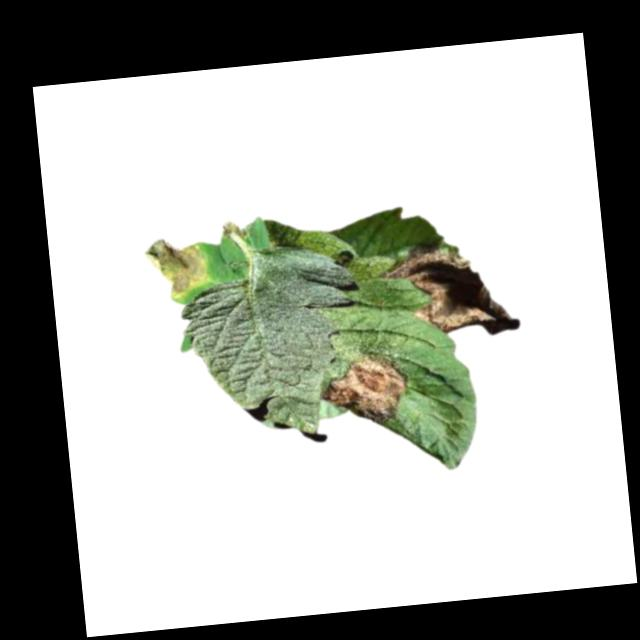Late_blight: (376, 236, 520, 345), (318, 349, 411, 431), (139, 234, 211, 303), (220, 216, 255, 241)
healthy: (173, 238, 369, 454)
